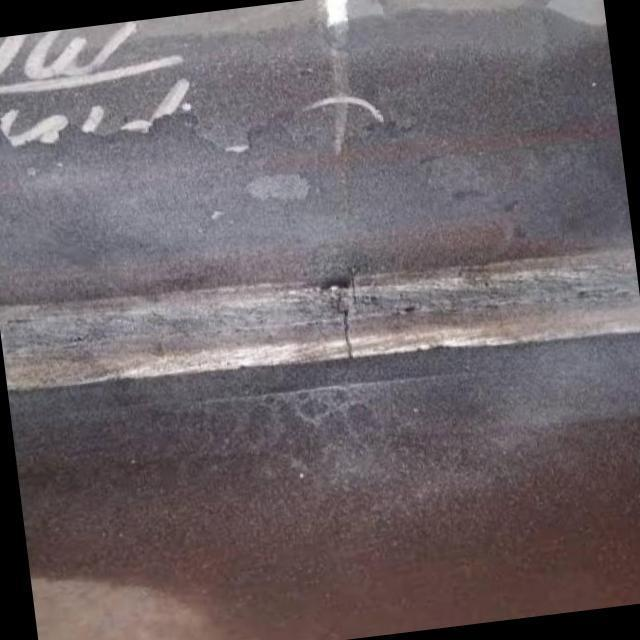defect: (332, 289, 356, 363)
